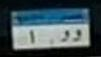1: (29, 29, 37, 46)
waw: (71, 28, 83, 43), (59, 29, 70, 44)
